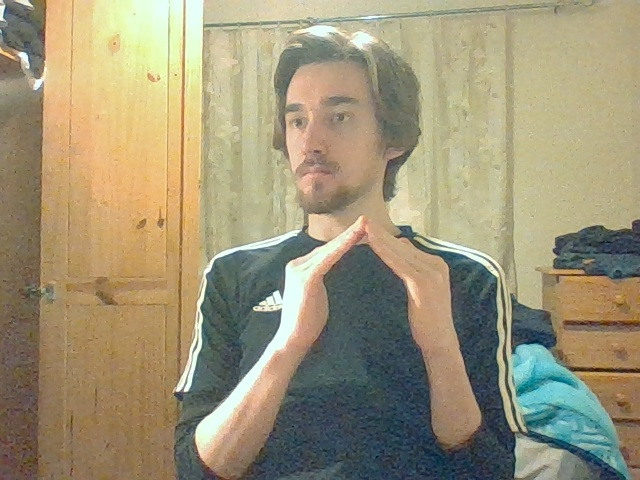home: (285, 215, 450, 312)
